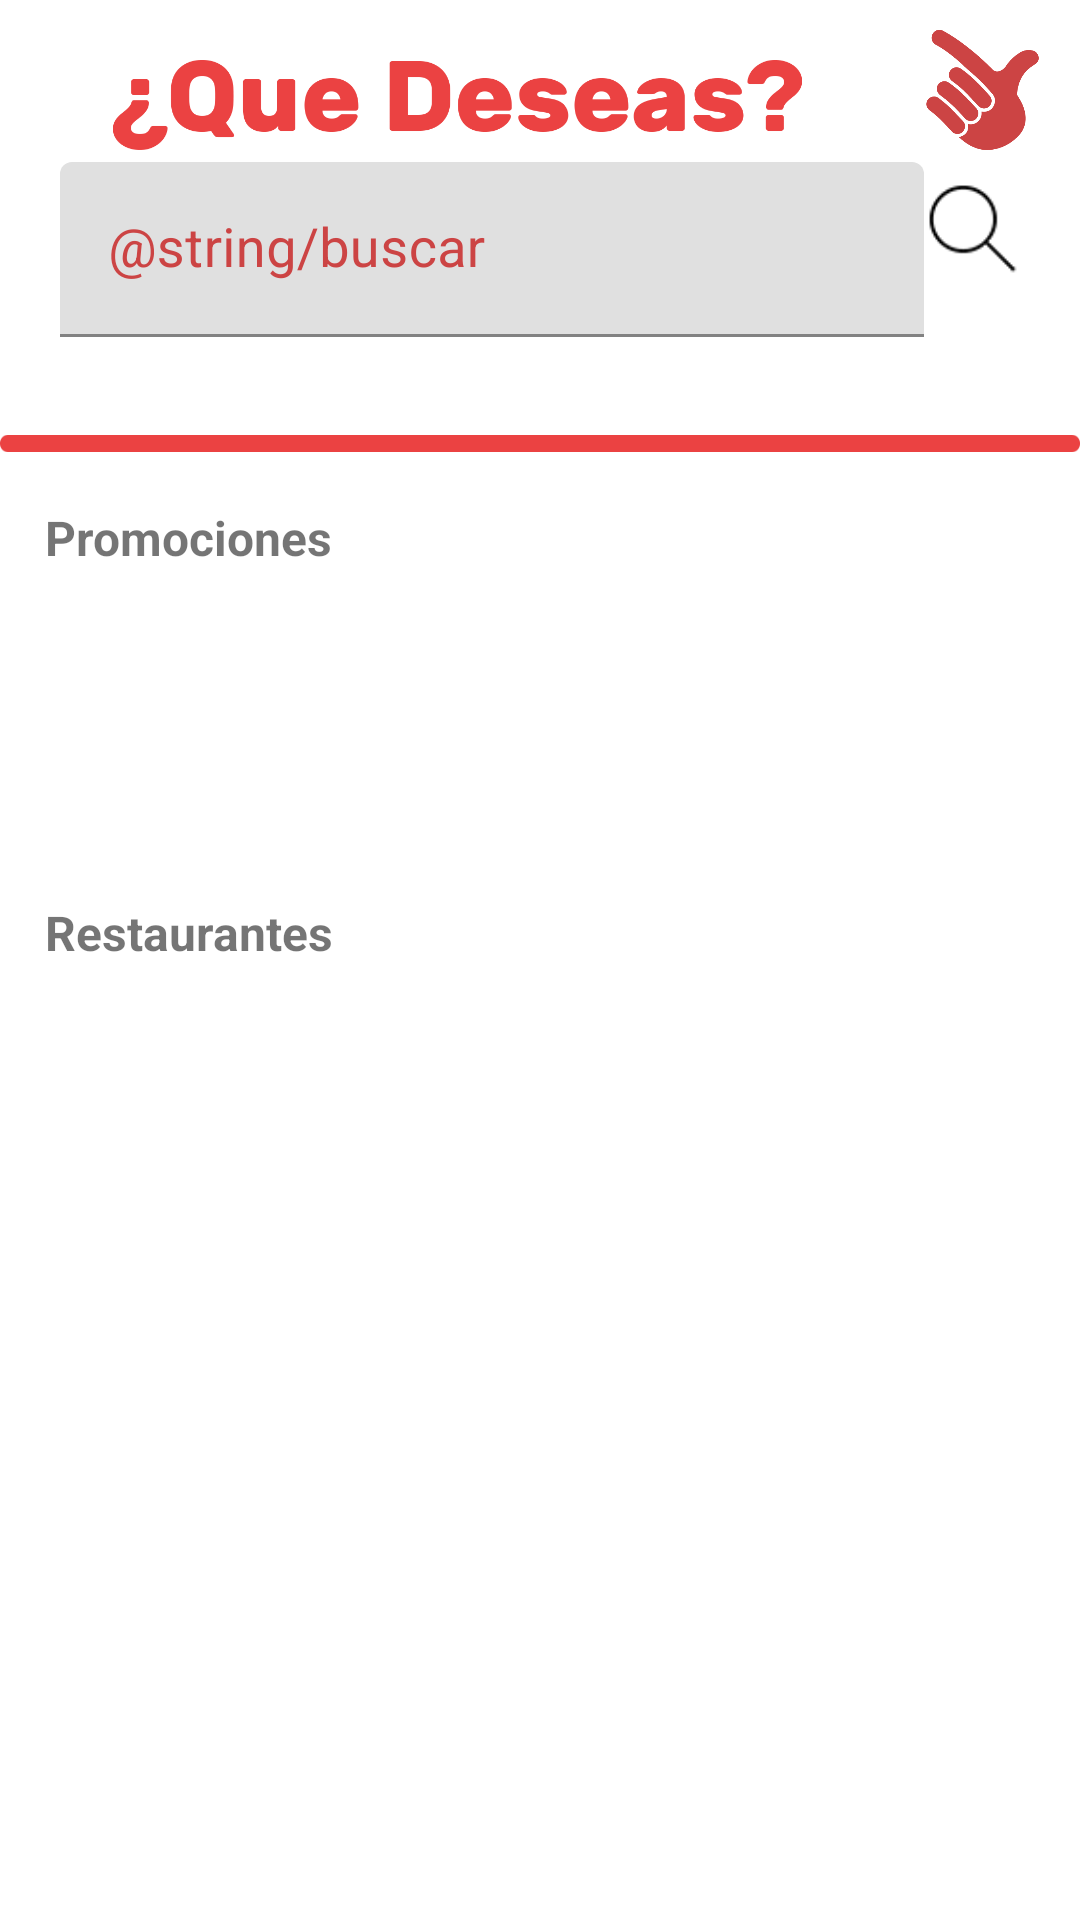

Icons on this 1080px×1920px Android screen, each with the point to tap as [x,y]:
buscarb: [972,228]
